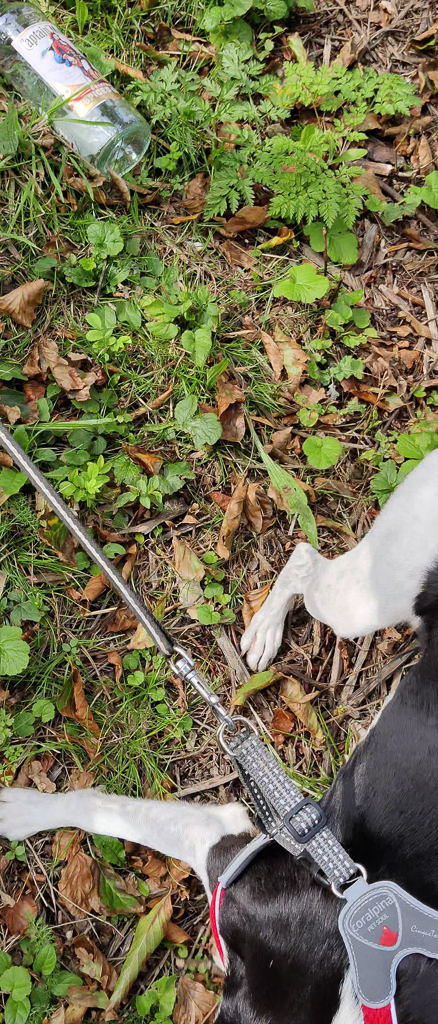Dog: (0, 439, 438, 1024)
